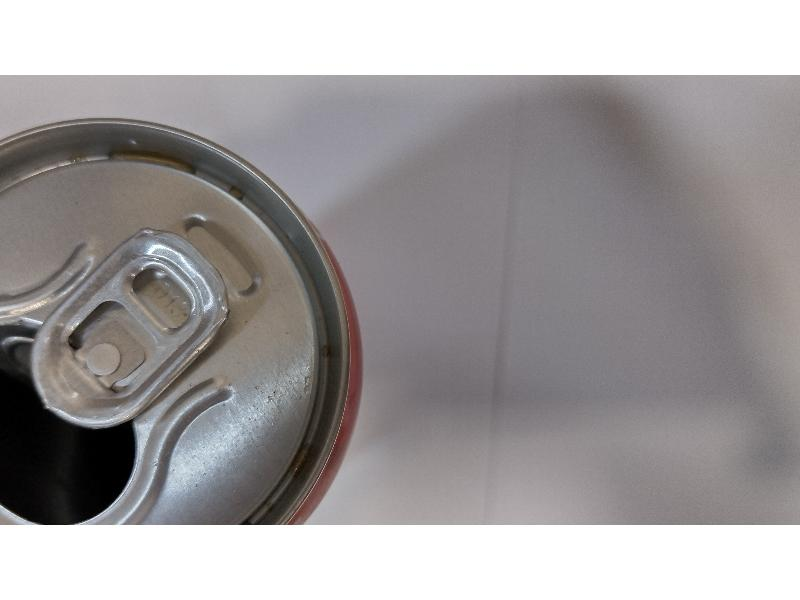can: (0, 112, 374, 522)
